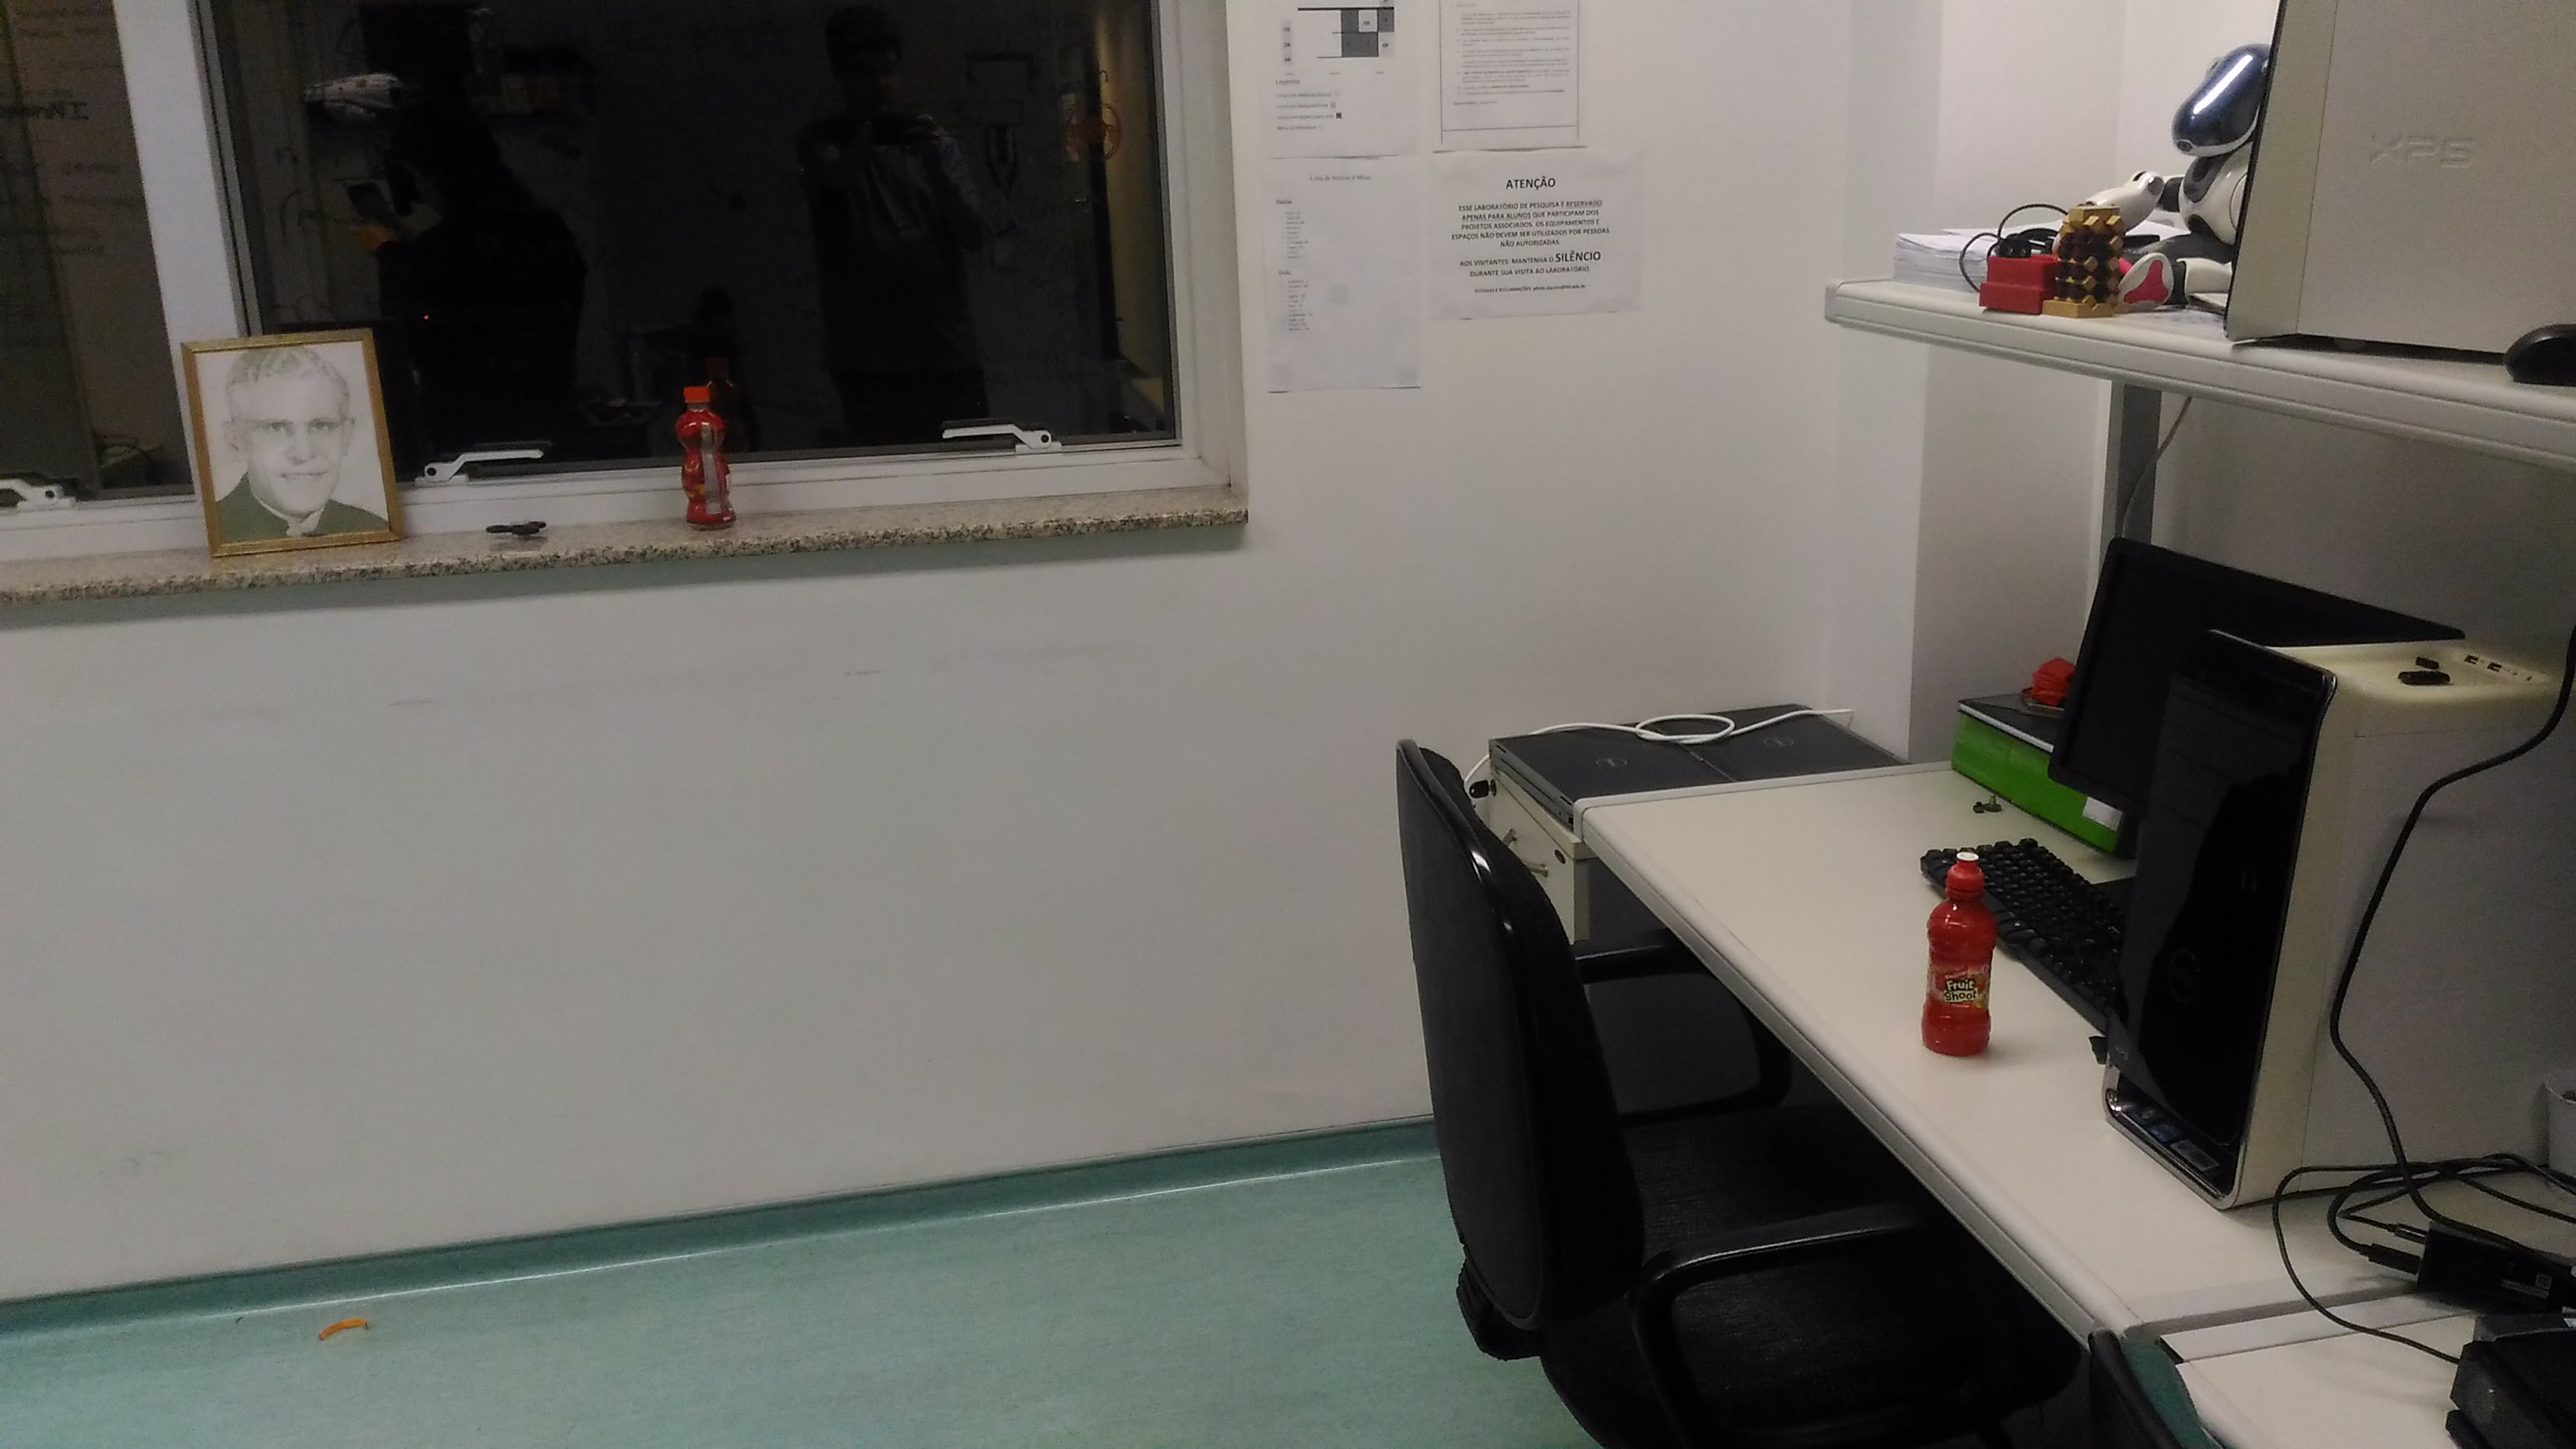iron_man: (665, 371, 739, 537)
red_juice: (1927, 844, 2002, 1073)
